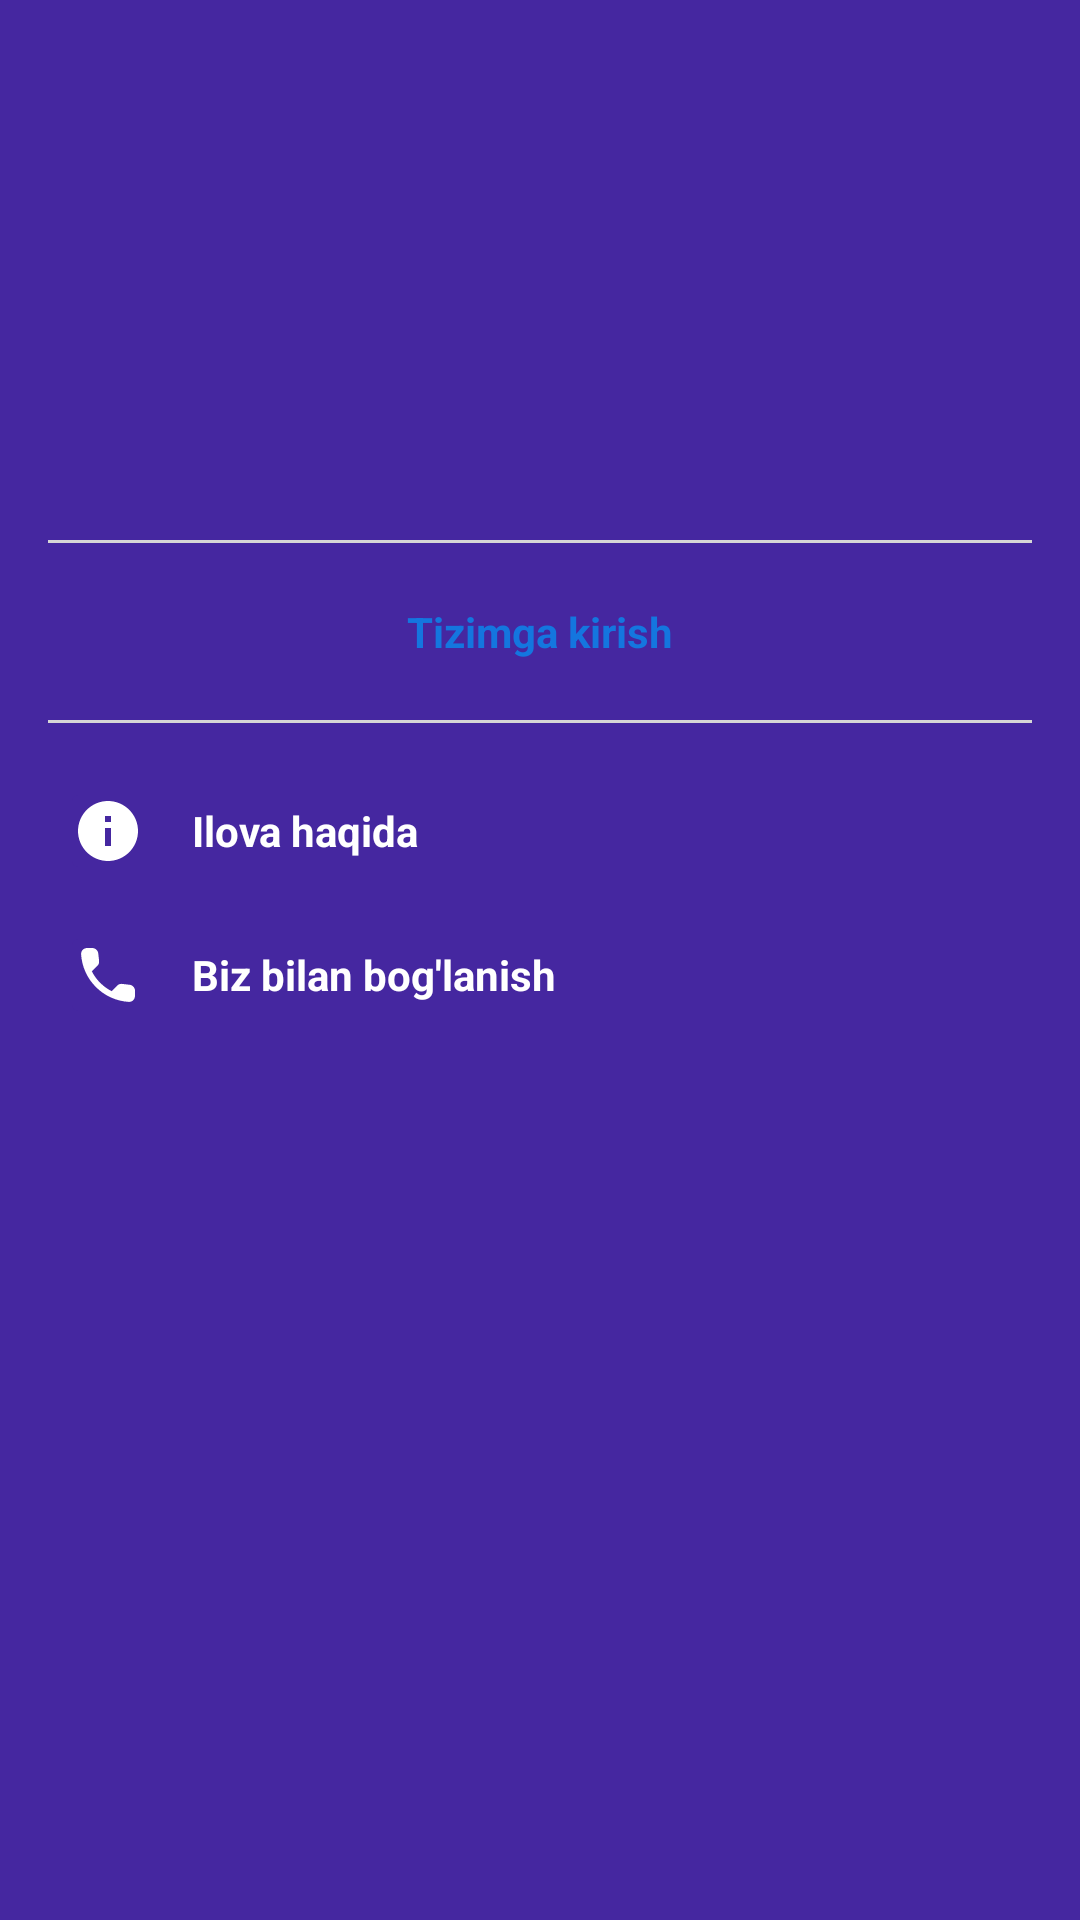

Named icons in this screenshot (1080px x 1920px) and their bounding boxes, (x1, y1, x2, y2):
call: (81, 948, 135, 1002)
info circle: (78, 801, 138, 861)
